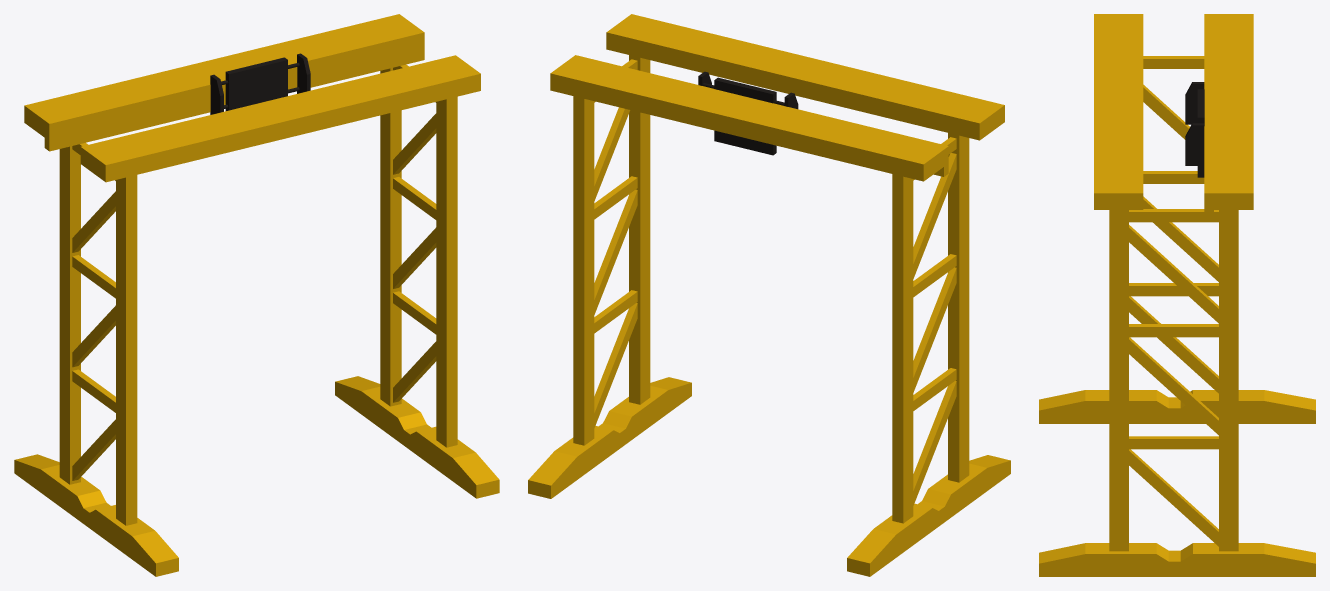
File: crane2.fbx
The picture shows the model from 3 angles, left to right: view 1: azimuth 30°, elevation 25°; view 2: azimuth 150°, elevation 25°; view 3: azimuth 270°, elevation 25°; orthographic projection. The views are drawn at different scales.
Parts seen in each view (by area): view 1: Cube.084; view 2: Cube.084; view 3: Cube.084.
Part boxes in pixels (left/top/right/bottom): Cube.084: left=14, top=14, right=499, bottom=576; Cube.084: left=528, top=14, right=1010, bottom=576; Cube.084: left=1039, top=14, right=1315, bottom=576.
Bounding box in the file's own units: 1410 × 1457 × 921.
